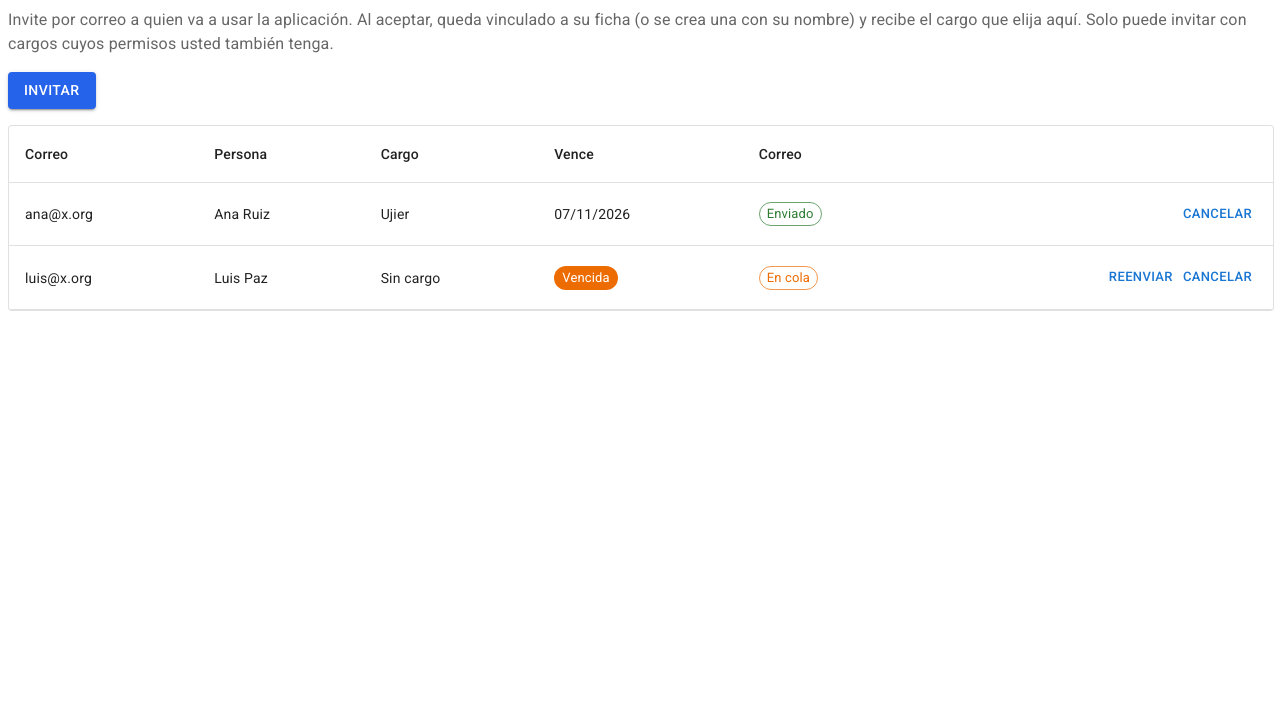
Scenario: InvitationsPanel › opens the dialog and invites by email alone
This screenshot has width=1280, height=720.
Click the button "Invitar" at (52, 90), box x1=8 y1=72 x2=96 y2=108
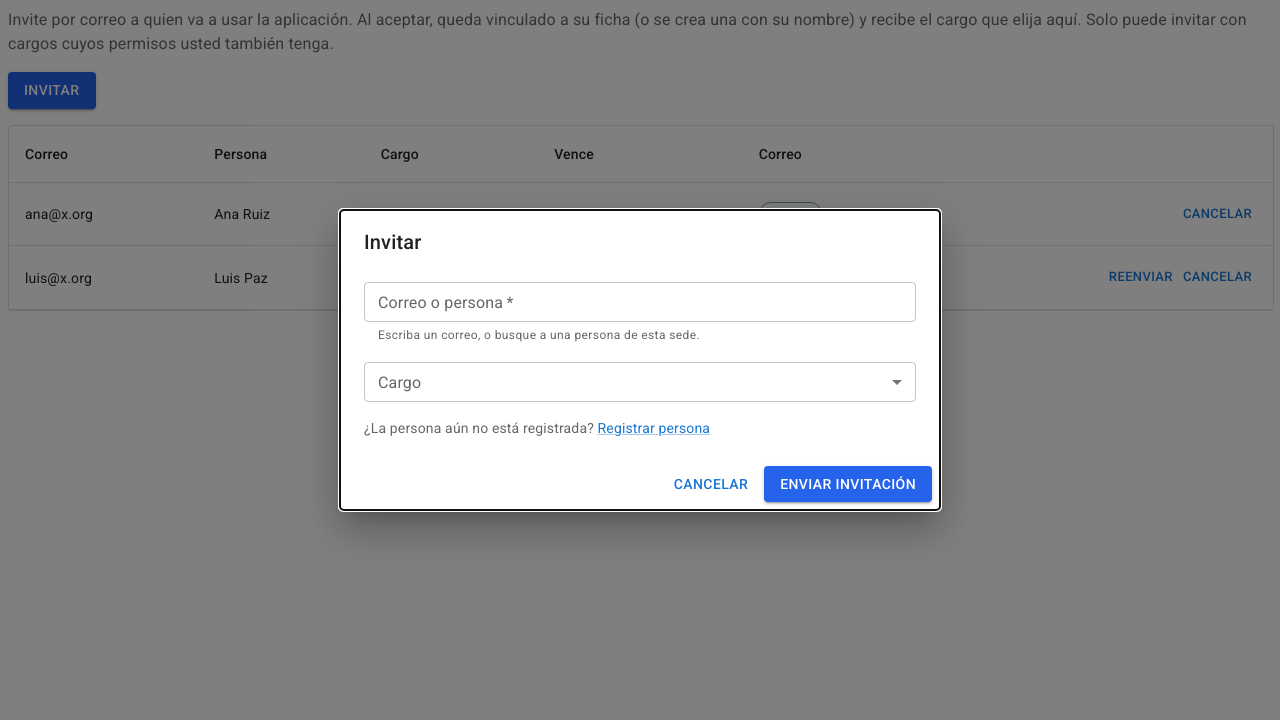
Type "beto@x.org" into the dropdown labelled "Correo o persona *" at (638, 302), box x1=370 y1=288 x2=907 y2=316
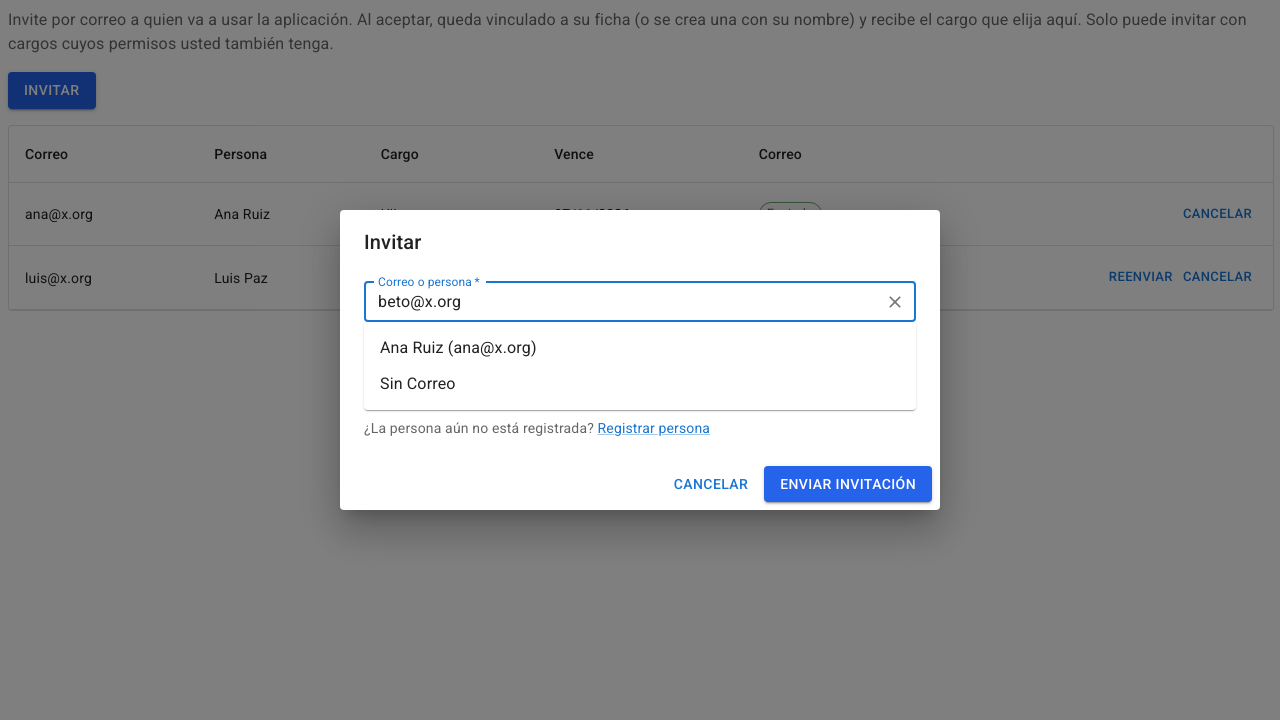
Click the button "Enviar invitación" at (848, 484), box x1=764 y1=466 x2=932 y2=502
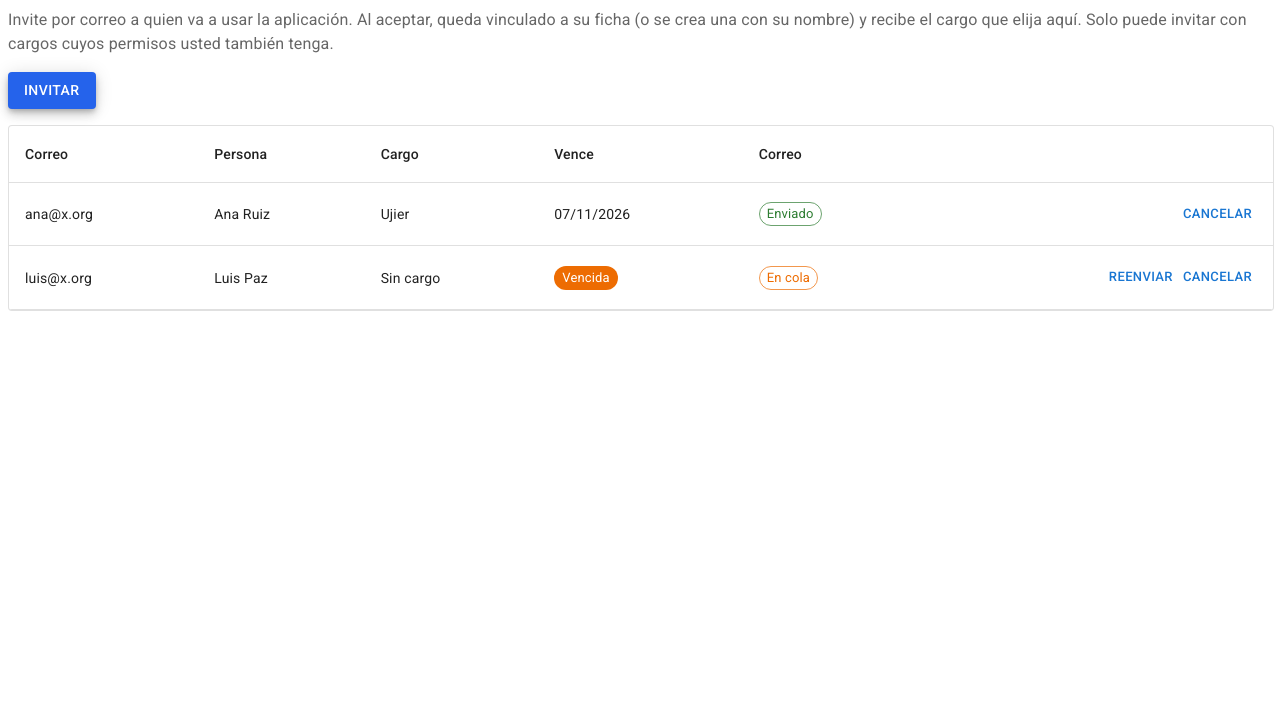
Expected: the dialog is gone
